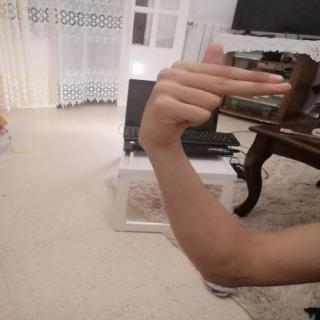GHAYN: (130, 34, 304, 154)
